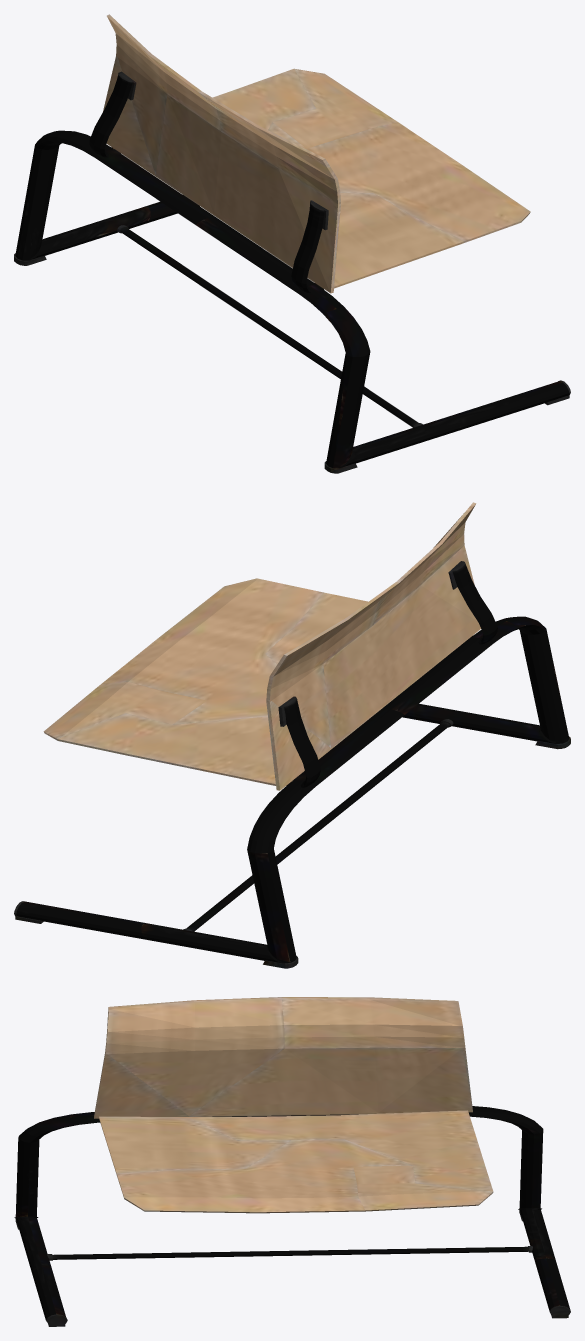
The model's file is chair_4.glb.
3 views of the same model, one above another, from view 1: azimuth 30°, elevation 25°; view 2: azimuth 150°, elevation 25°; view 3: azimuth 270°, elevation 25° (orthographic). The views are drawn at different scales.
Parts seen in each view (by area): view 1: chair_4; view 2: chair_4; view 3: chair_4.
Part boxes in pixels (box(x1,y1,x2,y2)): chair_4: box(14, 14, 570, 473); chair_4: box(14, 502, 570, 968); chair_4: box(14, 997, 570, 1326).
Size of the model in its own units: 2.16 by 1.87 by 4.1.
1 material, 1 textured.
